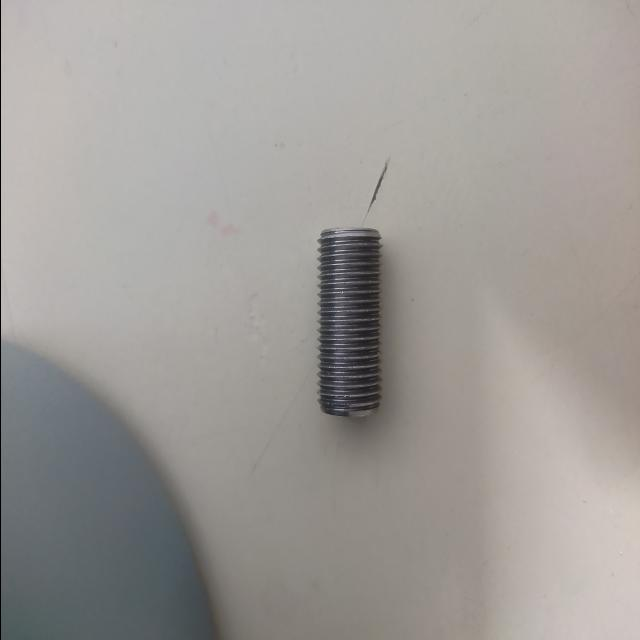Normal: (315, 226, 383, 418)
